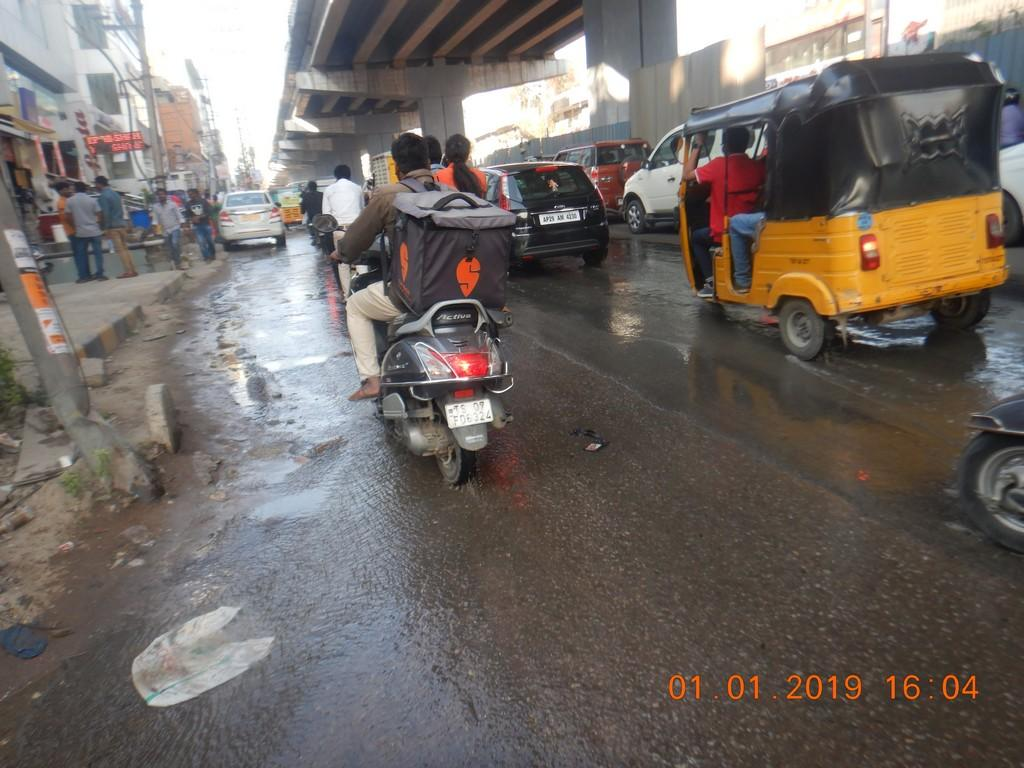plate: (446, 396, 494, 426)
